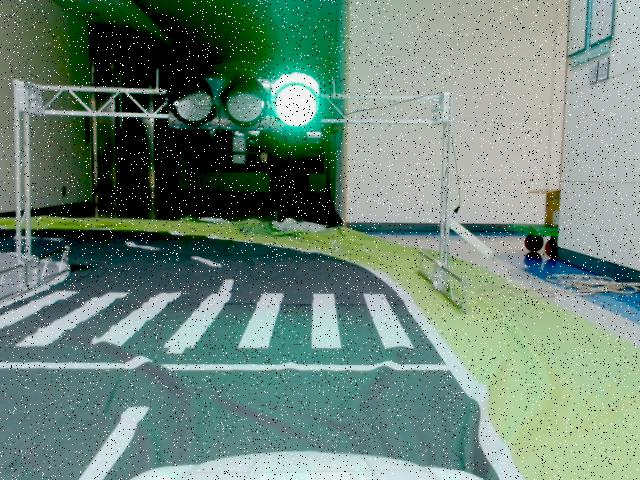crosswalk: (0, 289, 415, 349)
traffic light-green-: (167, 72, 321, 132)
